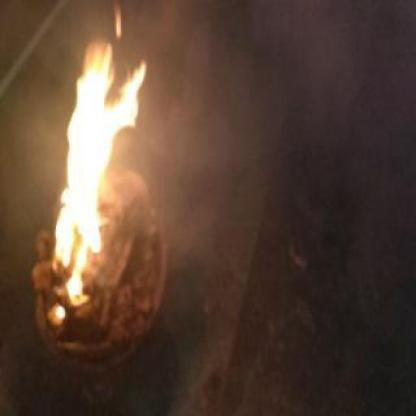Fire: (51, 218, 108, 329), (60, 92, 118, 159), (55, 158, 109, 218), (68, 30, 120, 92), (120, 38, 148, 140)
Smoke: (148, 17, 239, 251), (2, 61, 50, 235), (109, 160, 147, 255)
